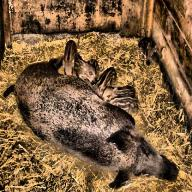boar: (26, 55, 182, 185), (53, 36, 77, 84), (102, 83, 138, 101), (75, 58, 96, 84)
